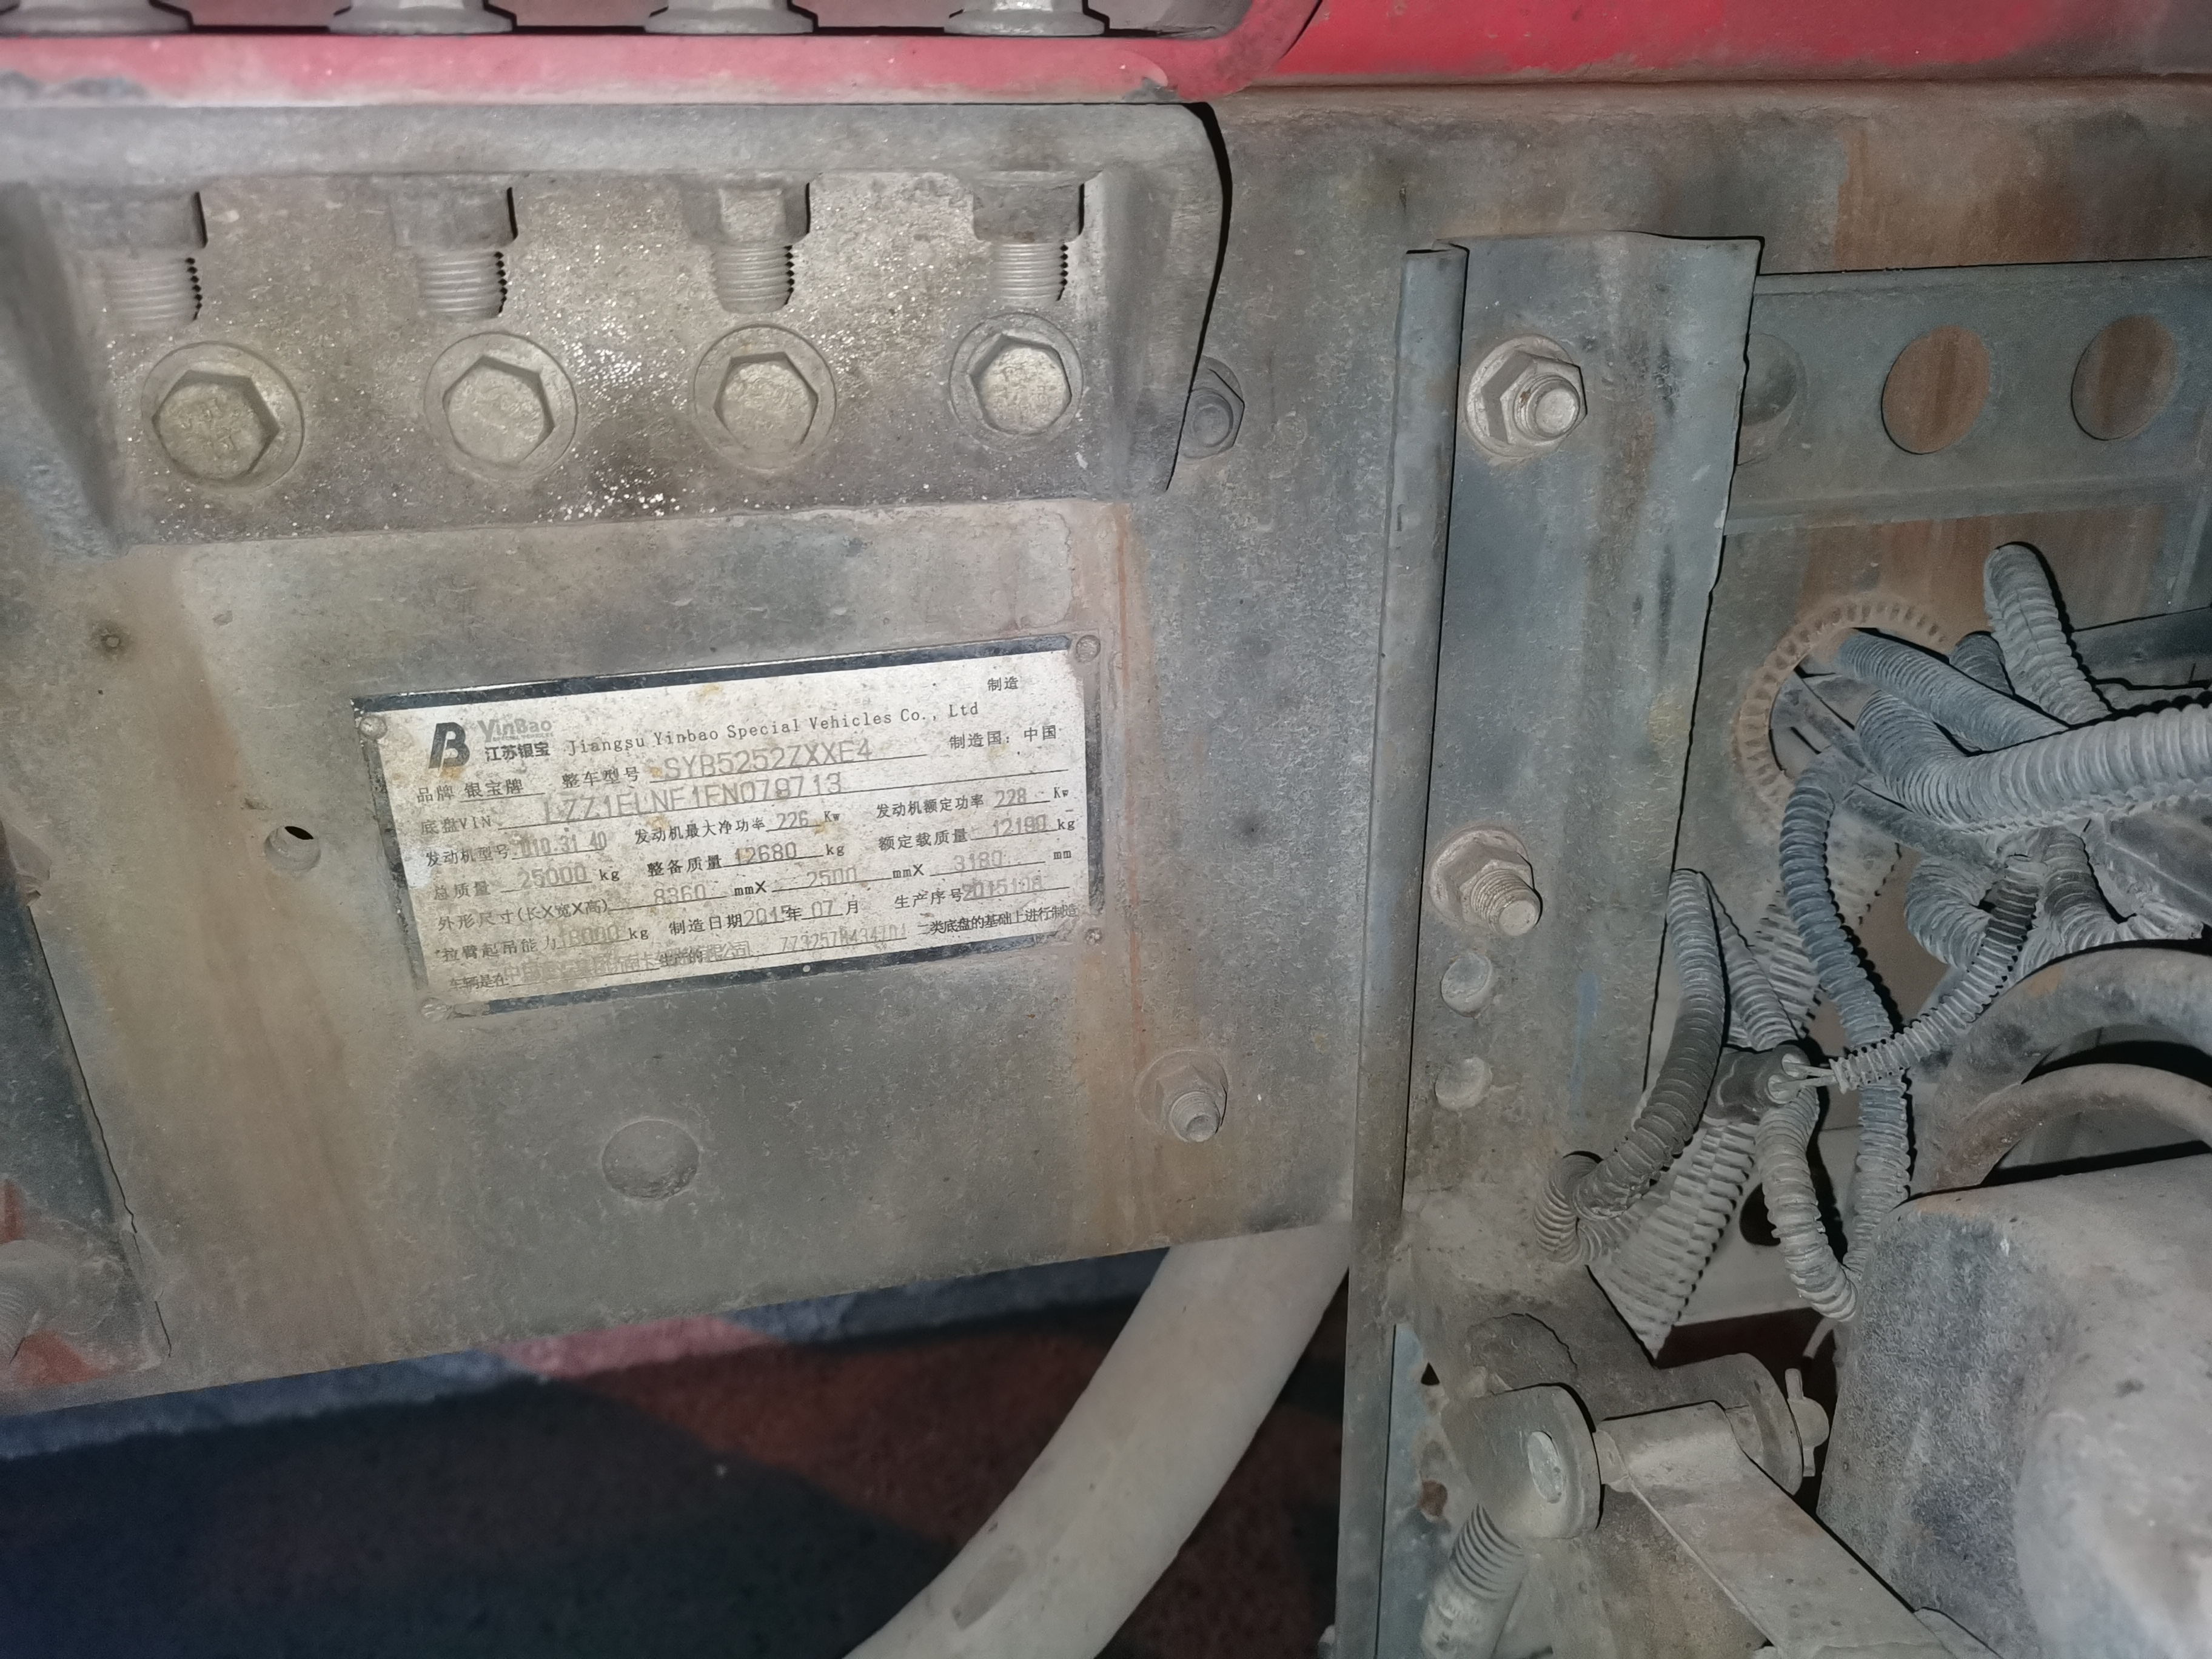bolt_a: (146, 362, 284, 488), (437, 350, 559, 471), (709, 349, 822, 460), (967, 331, 1076, 443)
bolt_b: (1479, 347, 1592, 460), (1439, 831, 1548, 941), (1162, 362, 1251, 462), (1146, 1061, 1233, 1145)
bolt_c: (35, 169, 219, 272), (373, 164, 531, 268), (671, 164, 817, 261), (961, 164, 1090, 258)
